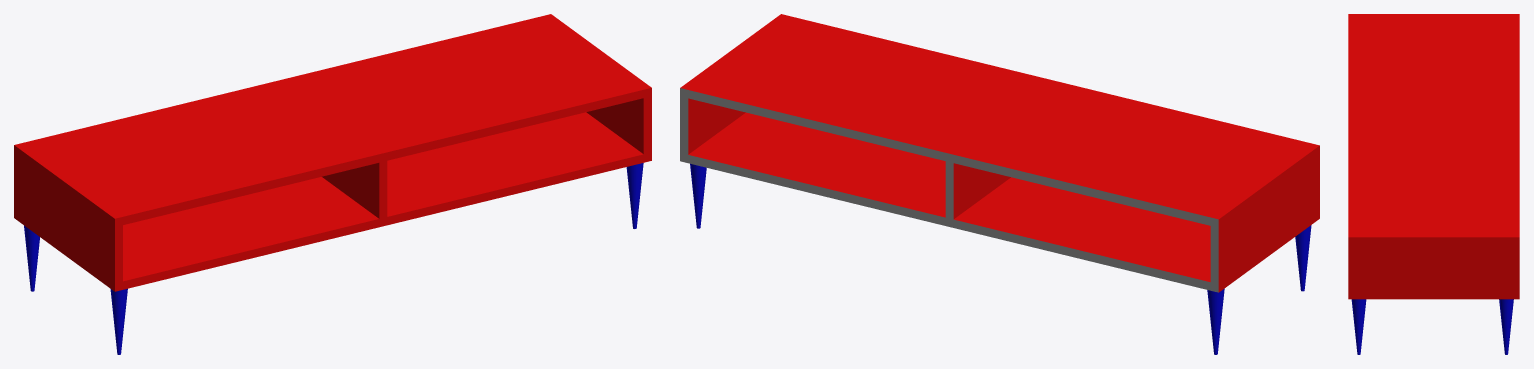
File: TVBench.fbx
3 renders of one model, left to right at view 1: azimuth 30°, elevation 25°; view 2: azimuth 150°, elevation 25°; view 3: azimuth 270°, elevation 25°, orthographic. The views are drawn at different scales.
Parts seen in each view (by area): view 1: pCylinder5; view 2: pCylinder5; view 3: pCylinder5.
Boxes of the visible parts, box(x1,y1,x2,y2) form: pCylinder5: box(14, 14, 651, 354); pCylinder5: box(680, 14, 1319, 354); pCylinder5: box(1348, 14, 1519, 354).
Bounding box in the file's own units: 200 × 50.78 × 65.
